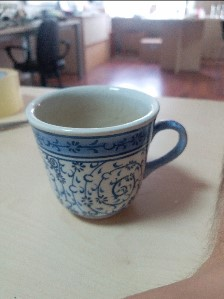cup: (25, 84, 191, 224)
